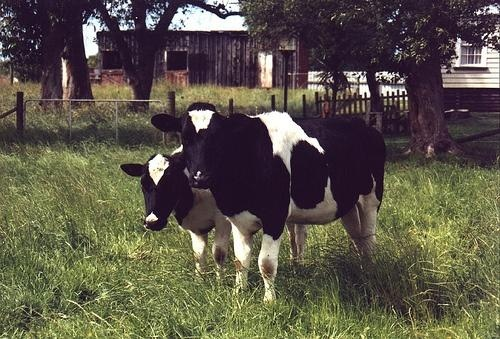cow: (163, 102, 392, 312), (121, 141, 235, 287)
